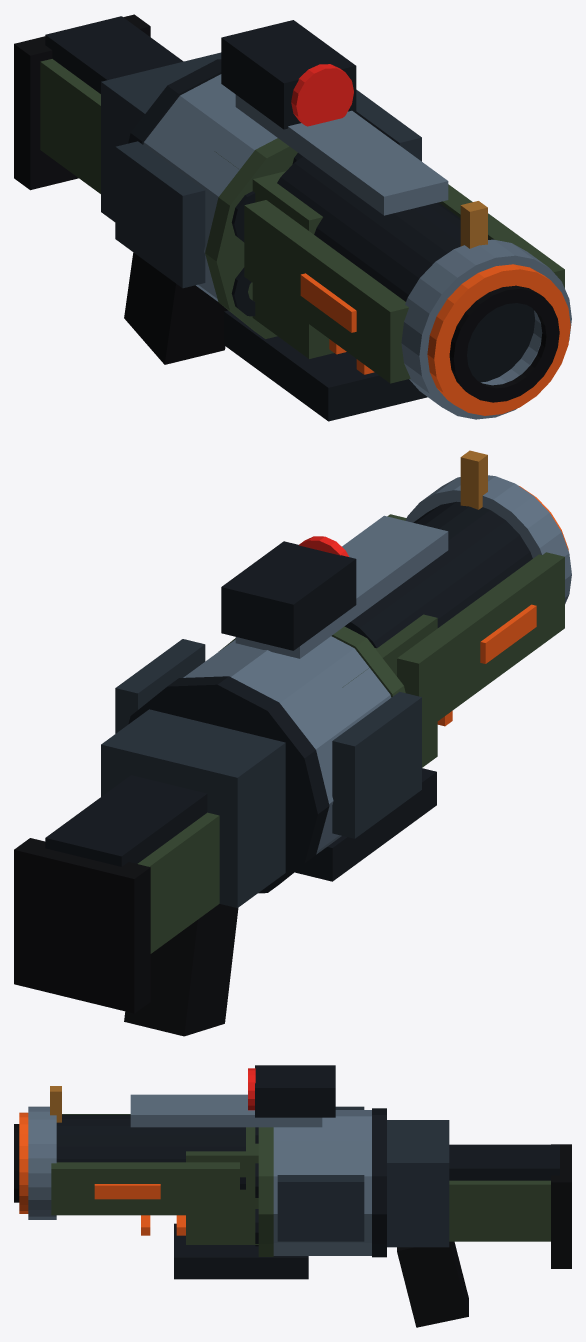
The model's file is TPS_GrenadeLauncher_Original.obj.
3 renders of one model, top to bottom at view 1: azimuth 30°, elevation 25°; view 2: azimuth 150°, elevation 25°; view 3: azimuth 270°, elevation 25°, orthographic. The views are drawn at different scales.
Parts seen in each view (by area): view 1: 008_MainBarrel_MAT_BLACK, 029_BarrelGuard_L_MAT_OLIVE, 027_DrumLatch_L_MAT_DARK, 033_UpperRail_MAT_STEEL, 012_DrumBody_MAT_STEEL, 005_LowerFrame_MAT_BLACK, 009_MuzzleArmor_MAT_STEEL, 034_TopScope_MAT_BLACK, 006_PistolGrip_MAT_RUBBER, 010_MuzzleOrangeRing_MAT_ORANGE, 001_ShoulderStock_MAT_OLIVE, 002_StockArmTop_MAT_BLACK (+13 smaller); view 2: 000_RearButt_MAT_RUBBER, 003_Receiver_MAT_DARK, 029_BarrelGuard_L_MAT_OLIVE, 012_DrumBody_MAT_STEEL, 008_MainBarrel_MAT_BLACK, 013_DrumBack_MAT_BLACK, 034_TopScope_MAT_BLACK, 027_DrumLatch_L_MAT_DARK, 006_PistolGrip_MAT_RUBBER, 002_StockArmTop_MAT_BLACK, 001_ShoulderStock_MAT_OLIVE, 033_UpperRail_MAT_STEEL (+7 smaller); view 3: 031_BarrelGuard_R_MAT_OLIVE, 003_Receiver_MAT_DARK, 012_DrumBody_MAT_STEEL, 008_MainBarrel_MAT_BLACK, 001_ShoulderStock_MAT_OLIVE, 028_DrumLatch_R_MAT_DARK, 033_UpperRail_MAT_STEEL, 006_PistolGrip_MAT_RUBBER, 005_LowerFrame_MAT_BLACK, 034_TopScope_MAT_BLACK, 002_StockArmTop_MAT_BLACK, 004_MainBody_MAT_OLIVE (+8 smaller).
Part boxes in pixels (x1=…): 008_MainBarrel_MAT_BLACK: x1=277, y1=156, x2=534, y2=382; 029_BarrelGuard_L_MAT_OLIVE: x1=244, y1=200, x2=410, y2=383; 027_DrumLatch_L_MAT_DARK: x1=115, y1=141, x2=205, y2=288; 033_UpperRail_MAT_STEEL: x1=235, y1=94, x2=448, y2=215; 012_DrumBody_MAT_STEEL: x1=143, y1=74, x2=277, y2=301; 005_LowerFrame_MAT_BLACK: x1=224, y1=310, x2=427, y2=421; 009_MuzzleArmor_MAT_STEEL: x1=401, y1=239, x2=571, y2=419; 034_TopScope_MAT_BLACK: x1=221, y1=20, x2=356, y2=129; 006_PistolGrip_MAT_RUBBER: x1=124, y1=252, x2=227, y2=364; 010_MuzzleOrangeRing_MAT_ORANGE: x1=427, y1=264, x2=570, y2=415; 001_ShoulderStock_MAT_OLIVE: x1=40, y1=59, x2=100, y2=193; 002_StockArmTop_MAT_BLACK: x1=45, y1=16, x2=183, y2=93; 000_RearButt_MAT_RUBBER: x1=14, y1=838, x2=150, y2=1013; 003_Receiver_MAT_DARK: x1=101, y1=709, x2=285, y2=907; 029_BarrelGuard_L_MAT_OLIVE: x1=397, y1=552, x2=564, y2=732; 012_DrumBody_MAT_STEEL: x1=183, y1=636, x2=391, y2=854; 008_MainBarrel_MAT_BLACK: x1=344, y1=501, x2=532, y2=648; 013_DrumBack_MAT_BLACK: x1=128, y1=676, x2=329, y2=893; 034_TopScope_MAT_BLACK: x1=221, y1=541, x2=356, y2=650; 027_DrumLatch_L_MAT_DARK: x1=332, y1=691, x2=421, y2=838; 006_PistolGrip_MAT_RUBBER: x1=124, y1=904, x2=238, y2=1036; 002_StockArmTop_MAT_BLACK: x1=45, y1=775, x2=207, y2=866; 001_ShoulderStock_MAT_OLIVE: x1=137, y1=812, x2=219, y2=953; 033_UpperRail_MAT_STEEL: x1=235, y1=515, x2=448, y2=658; 031_BarrelGuard_R_MAT_OLIVE: x1=51, y1=1162, x2=239, y2=1215; 003_Receiver_MAT_DARK: x1=387, y1=1120, x2=449, y2=1247; 012_DrumBody_MAT_STEEL: x1=273, y1=1110, x2=371, y2=1255; 008_MainBarrel_MAT_BLACK: x1=56, y1=1114, x2=245, y2=1189; 001_ShoulderStock_MAT_OLIVE: x1=449, y1=1180, x2=550, y2=1241; 028_DrumLatch_R_MAT_DARK: x1=277, y1=1175, x2=364, y2=1241; 033_UpperRail_MAT_STEEL: x1=130, y1=1094, x2=322, y2=1127; 006_PistolGrip_MAT_RUBBER: x1=397, y1=1241, x2=468, y2=1327; 005_LowerFrame_MAT_BLACK: x1=174, y1=1223, x2=308, y2=1279; 034_TopScope_MAT_BLACK: x1=255, y1=1065, x2=335, y2=1117; 002_StockArmTop_MAT_BLACK: x1=449, y1=1144, x2=559, y2=1180; 004_MainBody_MAT_OLIVE: x1=186, y1=1127, x2=258, y2=1244.
Size of the model in its own units: 0.596 by 0.9145 by 1.87.
